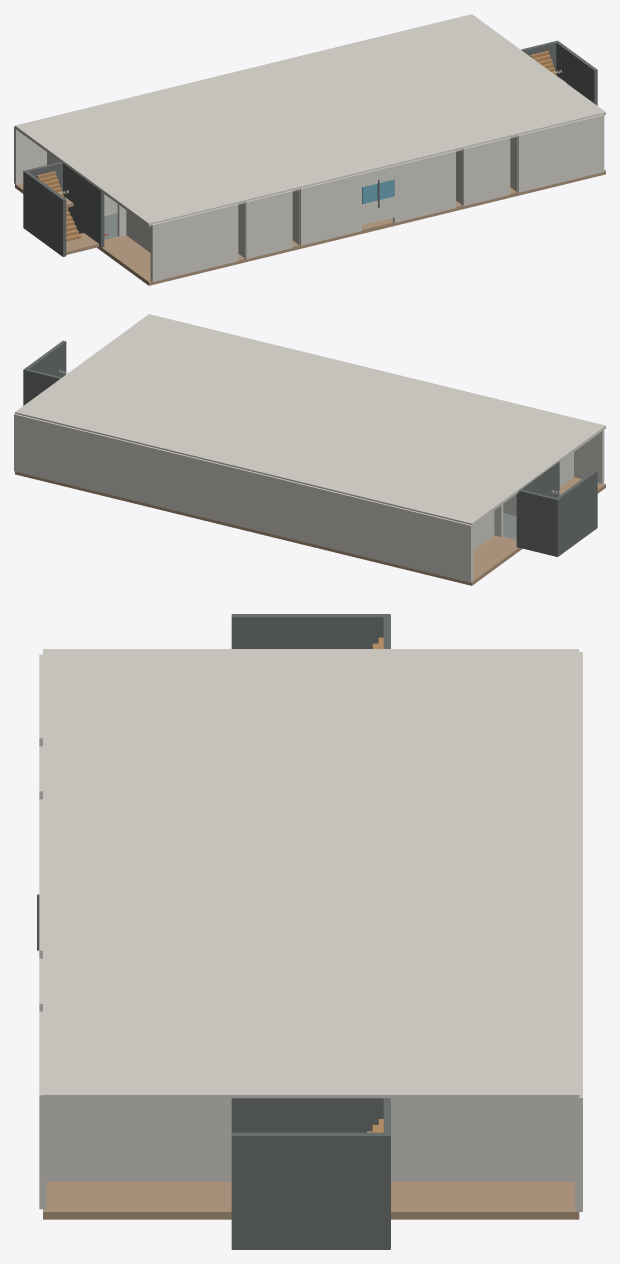
File: bucea_daxing_dorm7_floor2.glb
3 renders of one model, top to bottom at view 1: azimuth 30°, elevation 25°; view 2: azimuth 150°, elevation 25°; view 3: azimuth 270°, elevation 25°, orthographic. The views are drawn at different scales.
Parts seen in each view (by area): view 1: ceiling_south_rooms, ceiling_north_rooms, ceiling_corridor, south_outer_wall_left, floor_south_rooms, south_room_back_6, south_room_back_-6, south_outer_wall_right, south_room_back_3, south_room_back_-3, west_stair_left_wall, south_room_back_-9 (+17 smaller); view 2: north_outer_wall, ceiling_north_rooms, ceiling_south_rooms, ceiling_corridor, floor_north_rooms, west_stair_left_wall, west_stair_back_wall, south_outer_wall_left, east_stair_right_wall, west_stair_right_wall, east_stair_back_wall, north_room_side_-9_left (+1 smaller); view 3: ceiling_north_rooms, ceiling_south_rooms, ceiling_corridor, east_stair_right_wall, south_room_side_9_right, north_room_side_9_right, floor_south_rooms, floor_north_rooms, west_stair_left_wall, east_stair_left_wall, north_outer_wall, south_outer_wall_right.
Boxes of the visible parts, box(x1,y1,x2,y2) form: ceiling_south_rooms: box(94, 72, 605, 226); ceiling_north_rooms: box(15, 14, 525, 166); ceiling_corridor: box(69, 54, 550, 184); south_outer_wall_left: box(150, 210, 212, 281); floor_south_rooms: box(97, 169, 605, 285); south_room_back_6: box(463, 137, 510, 205); south_room_back_-6: box(245, 190, 292, 259); south_outer_wall_right: box(544, 114, 604, 183); south_room_back_3: box(409, 150, 455, 219); south_room_back_-3: box(300, 177, 346, 245); west_stair_left_wall: box(23, 170, 66, 256); south_room_back_-9: box(192, 203, 238, 271); north_outer_wall: box(14, 413, 472, 582); ceiling_north_rooms: box(15, 372, 526, 526); ceiling_south_rooms: box(95, 314, 605, 466); ceiling_corridor: box(70, 354, 551, 484); floor_north_rooms: box(15, 471, 522, 585); west_stair_left_wall: box(556, 470, 597, 556); west_stair_back_wall: box(517, 489, 557, 556); south_outer_wall_left: box(574, 430, 604, 483); east_stair_right_wall: box(23, 340, 66, 405); west_stair_right_wall: box(516, 461, 559, 546); east_stair_back_wall: box(24, 368, 61, 405); north_room_side_-9_left: box(473, 510, 494, 550); ceiling_north_rooms: box(361, 649, 579, 1100); ceiling_south_rooms: box(43, 649, 260, 1100); ceiling_corridor: box(261, 649, 361, 1097); east_stair_right_wall: box(231, 1132, 390, 1249); south_room_side_9_right: box(47, 1101, 231, 1181); north_room_side_9_right: box(391, 1101, 575, 1181); floor_south_rooms: box(43, 1181, 231, 1219); floor_north_rooms: box(391, 1181, 579, 1219); west_stair_left_wall: box(231, 614, 390, 648); east_stair_left_wall: box(231, 1098, 390, 1132); north_outer_wall: box(575, 652, 582, 1211); south_outer_wall_right: box(39, 1037, 46, 1209).
Bounding box in the file's own units: 29.48 × 3.28 × 13.04.
